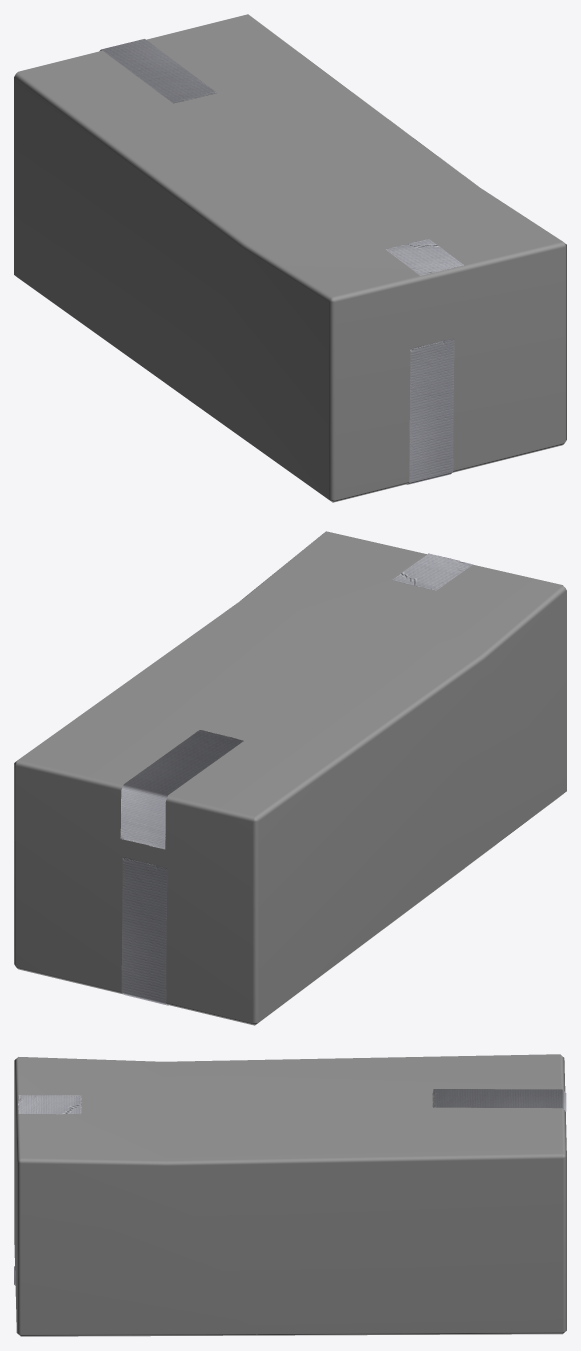
File: SeanElston_Box_02.fbx
3 views of the same model, one above another, from view 1: azimuth 30°, elevation 25°; view 2: azimuth 150°, elevation 25°; view 3: azimuth 270°, elevation 25° (orthographic). The views are drawn at different scales.
Visible parts, largest first — view 1: Box112; view 2: Box112; view 3: Box112.
Part boxes in pixels (x1=…): Box112: x1=14, y1=14, x2=566, y2=502; Box112: x1=14, y1=531, x2=566, y2=1025; Box112: x1=14, y1=1054, x2=566, y2=1336.
Size of the model in its own units: 37.99 by 30.66 by 84.46.
2 materials, 1 textured.
